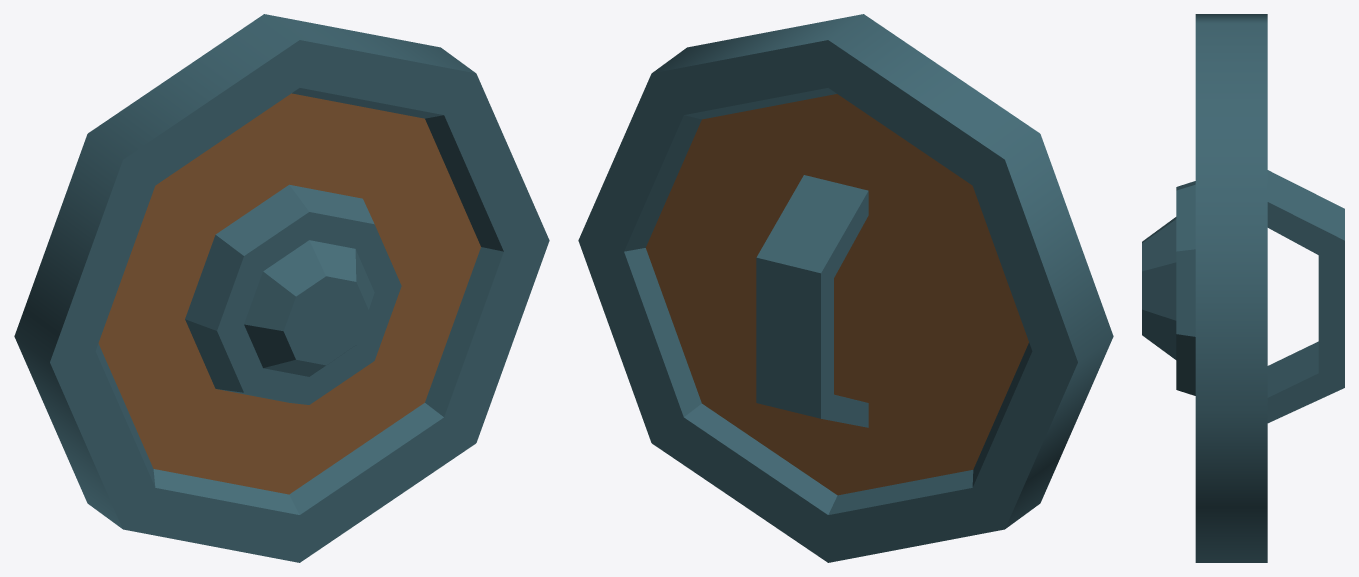
File: Shield.fbx
The picture shows the model from 3 angles, left to right: view 1: azimuth 30°, elevation 25°; view 2: azimuth 150°, elevation 25°; view 3: azimuth 270°, elevation 25°; orthographic projection.
Parts seen in each view (by area): view 1: Shield03; view 2: Shield03; view 3: Shield03.
Boxes of the visible parts, x1,y1,x2,y2 form: Shield03: (14, 14, 549, 562); Shield03: (578, 14, 1113, 562); Shield03: (1142, 14, 1344, 562).
Bounding box in the file's own units: 81.22 × 81.22 × 28.18.
